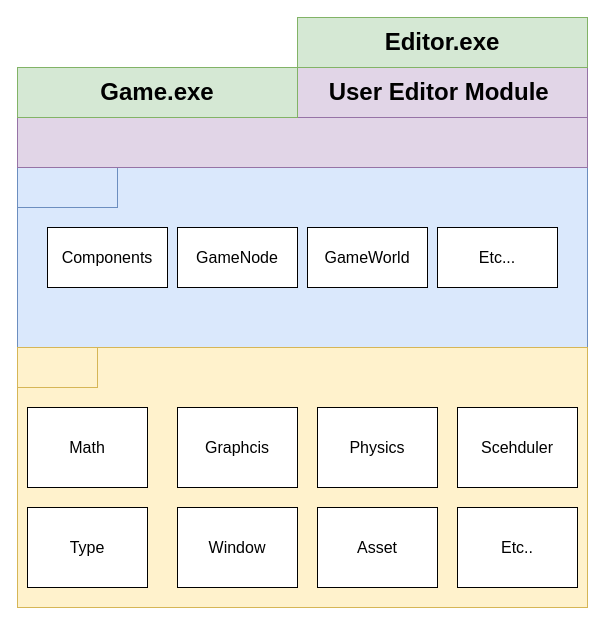
The diagram is 605 pixels wide and 625 high, and some of its shapes have lost their labels. Here are the shapes that lost their labels. From the top down, the box of each, then its label:
(16, 116, 588, 168): User Game Module
(16, 166, 118, 208): Game
(16, 346, 98, 388): Core
